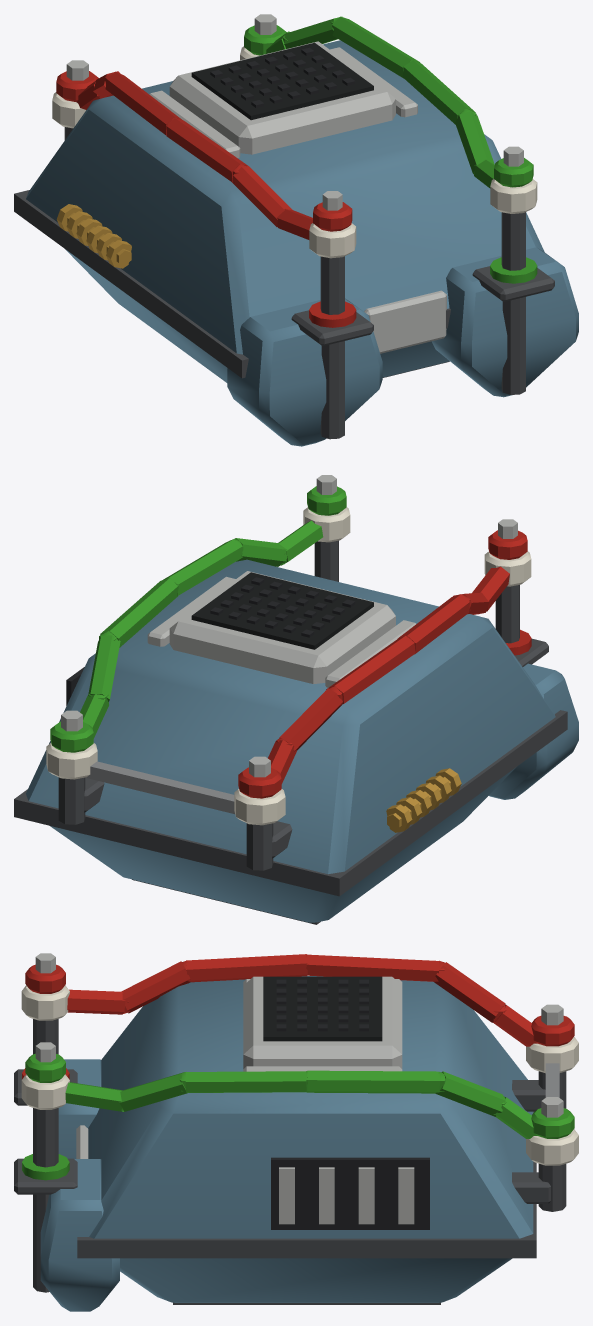
Rendered from arithmetic-combinator.glb.
The picture shows the model from 3 angles, top to bottom: view 1: azimuth 30°, elevation 25°; view 2: azimuth 150°, elevation 25°; view 3: azimuth 270°, elevation 25°; orthographic projection.
Visible parts, largest first — view 1: body; view 2: body; view 3: body.
Part boxes in pixels (bbox=[...]): body: bbox=[14, 14, 578, 446]; body: bbox=[14, 475, 578, 924]; body: bbox=[14, 953, 578, 1311].
Size of the model in its own units: 1 by 0.72 by 1.42.
